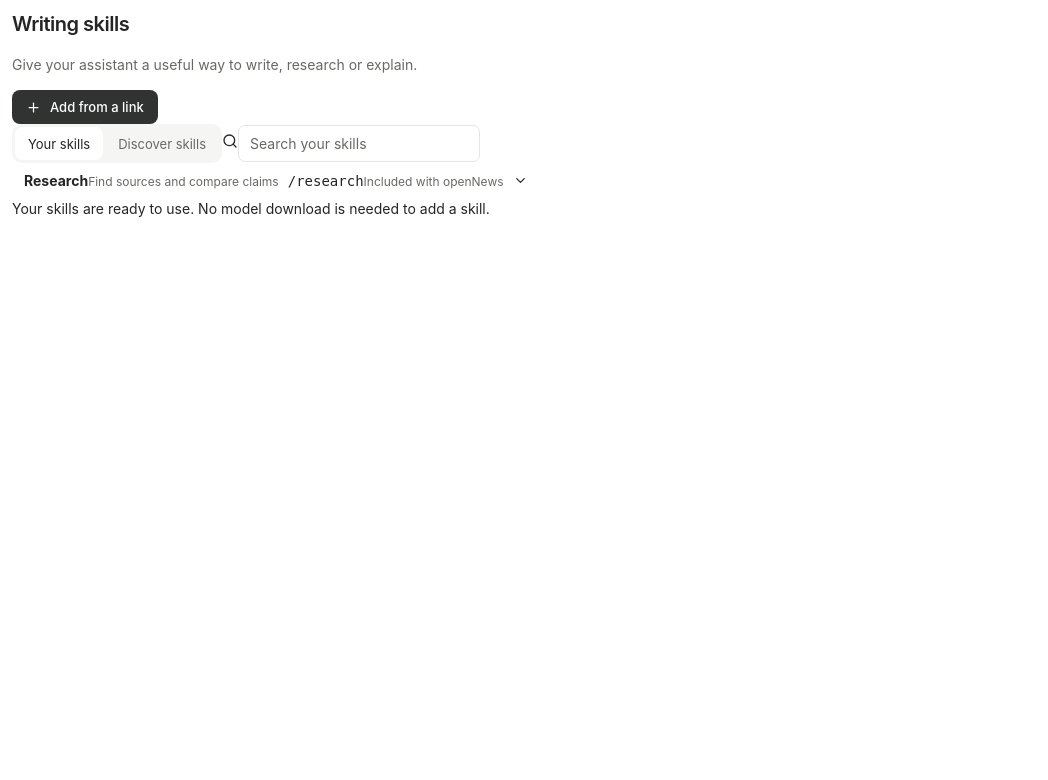
it: suggests a free command when an imported name matches an existing skill
This screenshot has width=1048, height=780.
Expected: the button "Research" is shown, left=12, top=163, right=540, bottom=197
Click the button "Add from a link": [85, 107] box left=12, top=90, right=158, bottom=124
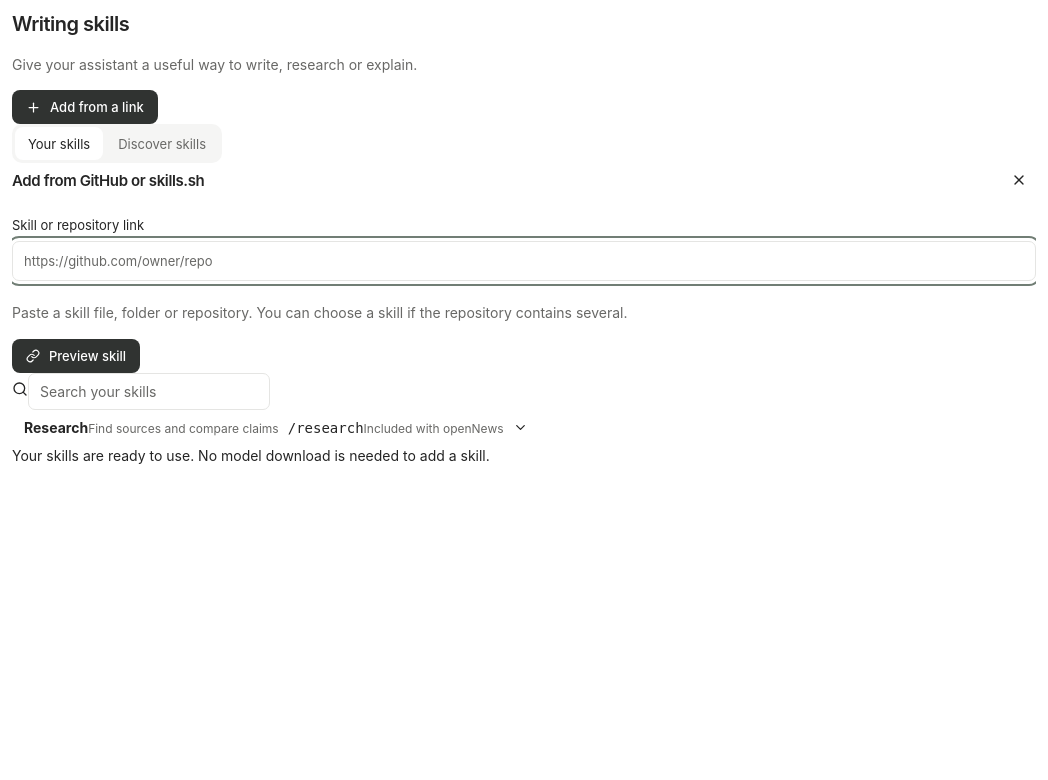
In the field labelled "Skill or repository link": [524, 261] box left=12, top=241, right=1036, bottom=281, type "https://github.com/a/b"
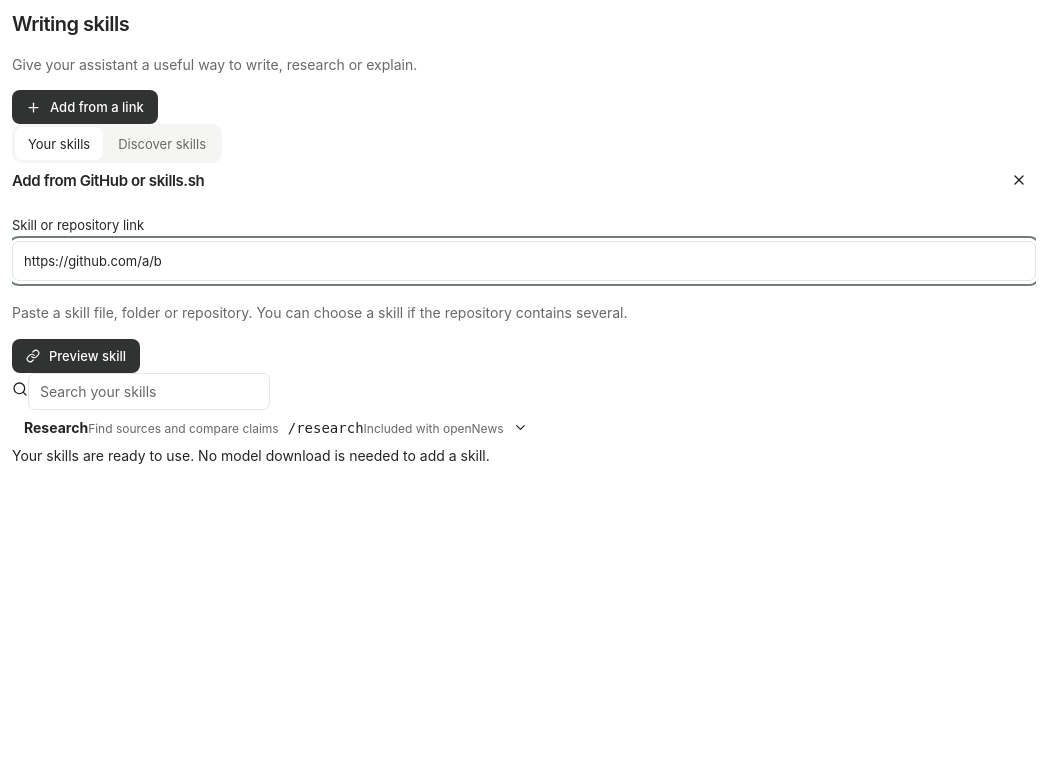
Click the button "Preview skill": [76, 356] box left=12, top=339, right=140, bottom=373
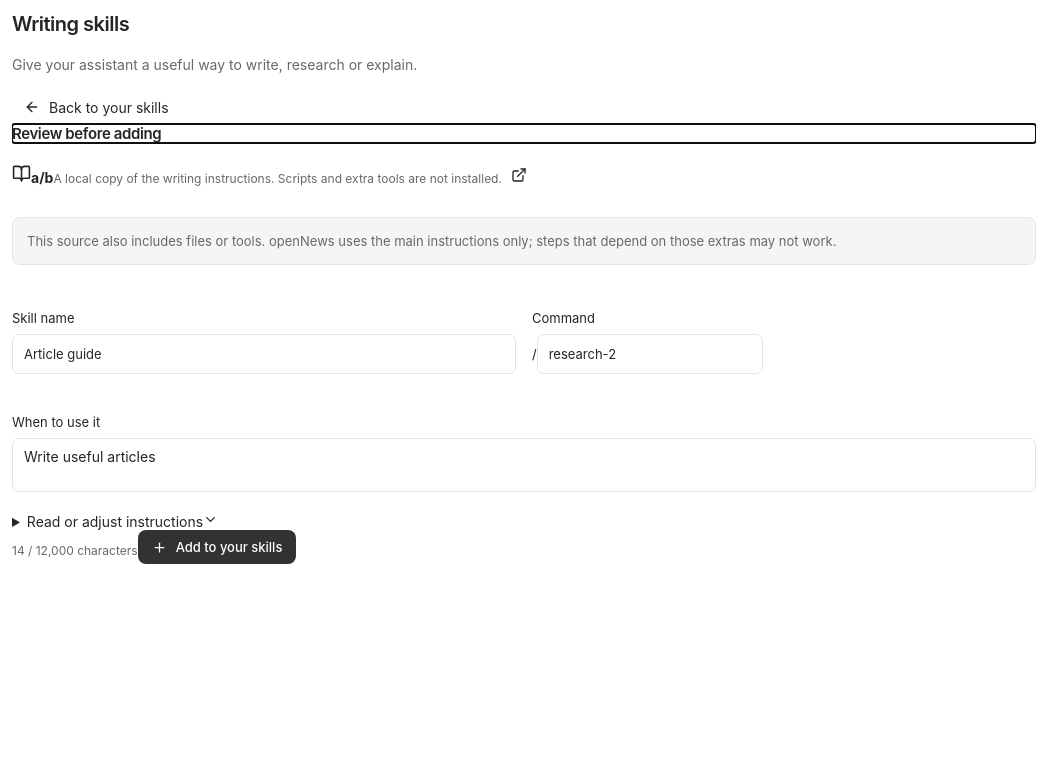
Now the heading "Review before adding" is shown, box left=12, top=124, right=161, bottom=143
Now the field labelled "Command" holds "research-2", box left=537, top=334, right=763, bottom=374
